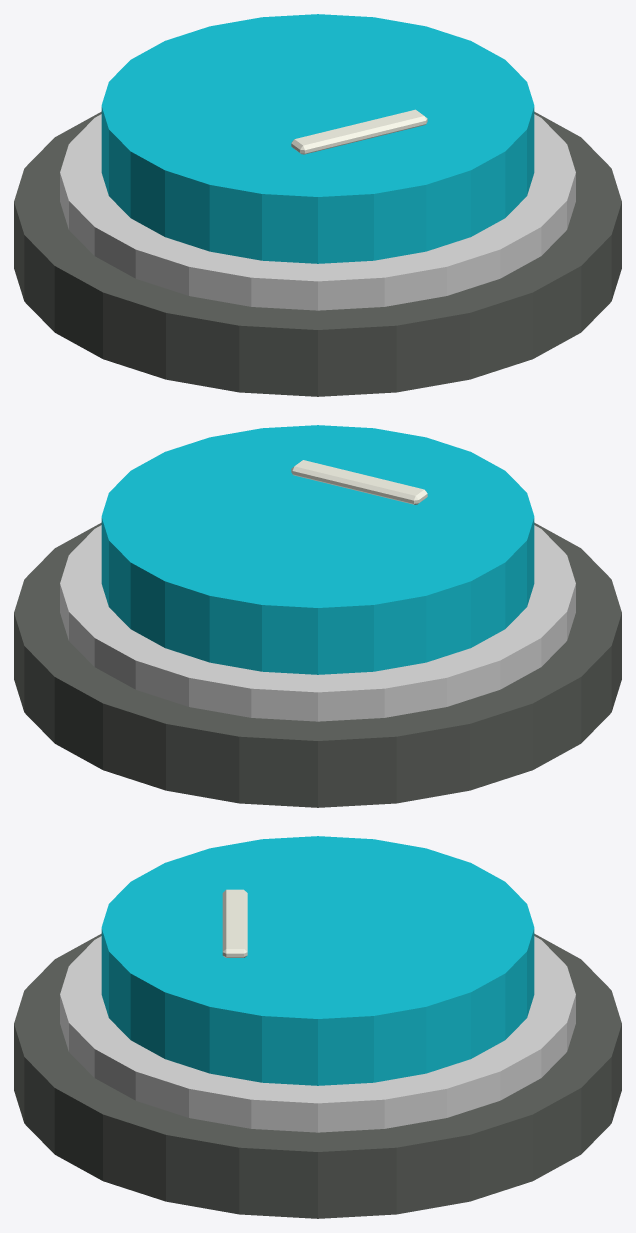
The model's file is terrain-button-40.glb.
The picture shows the model from 3 angles, top to bottom: view 1: azimuth 30°, elevation 25°; view 2: azimuth 150°, elevation 25°; view 3: azimuth 270°, elevation 25°; orthographic projection.
Parts seen in each view (by area): view 1: terrain-button-40; view 2: terrain-button-40; view 3: terrain-button-40.
Part boxes in pixels (x1=…): terrain-button-40: x1=14, y1=14, x2=621, y2=396; terrain-button-40: x1=14, y1=425, x2=621, y2=807; terrain-button-40: x1=14, y1=836, x2=621, y2=1218.
Size of the model in its own units: 0.66 by 0.205 by 0.66.
